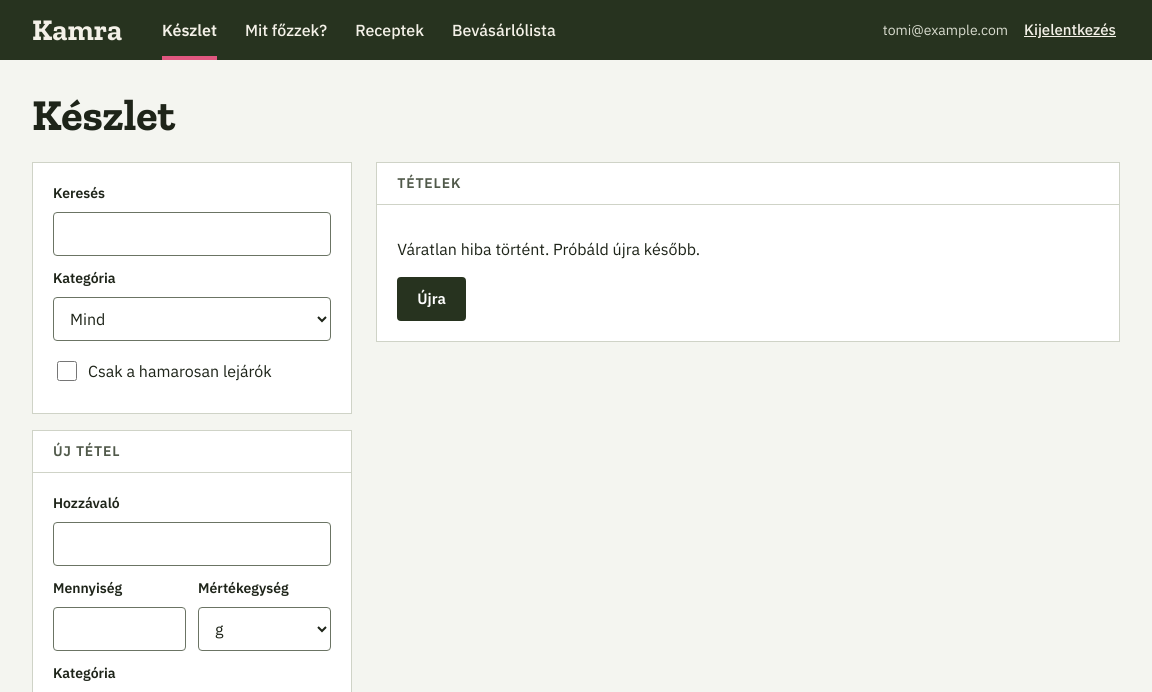
Test: pantry list › shows an error with a retry button
Check: the text "Váratlan hiba történt. Próbáld újra később." is shown, box [397,239,700,259]
Click the button "Újra" at (432, 299), box [397,277,466,321]
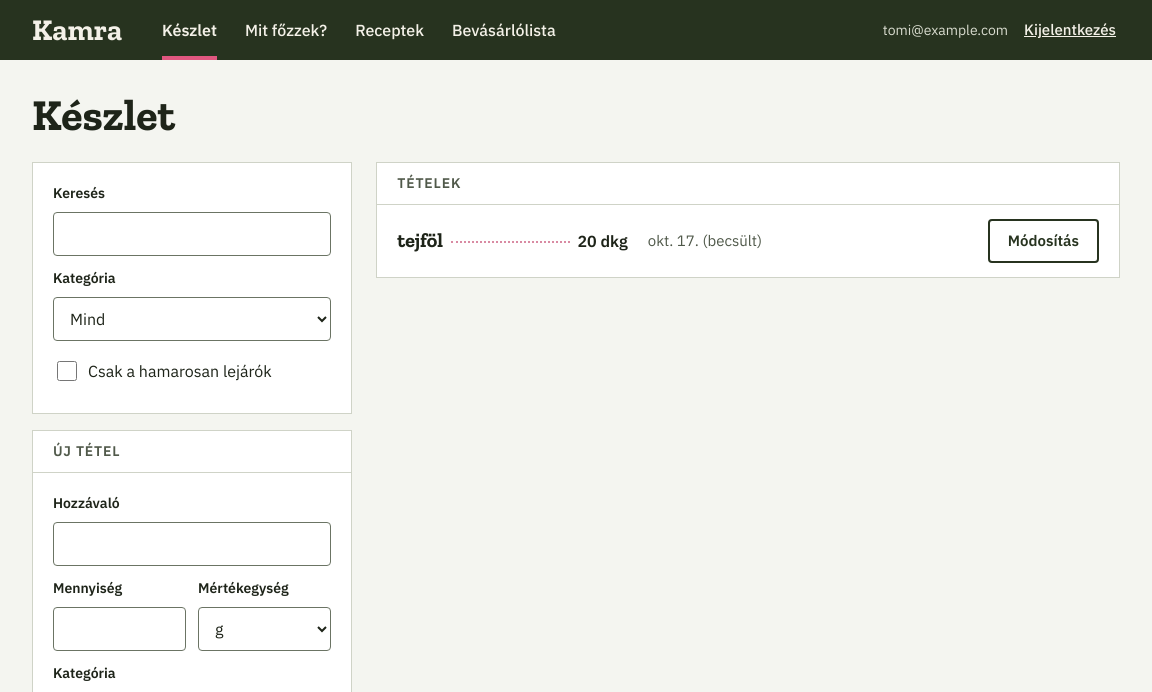
Check: the list item "tejföl 20 dkg Módosítás" is shown, box [377,205,1119,277]
